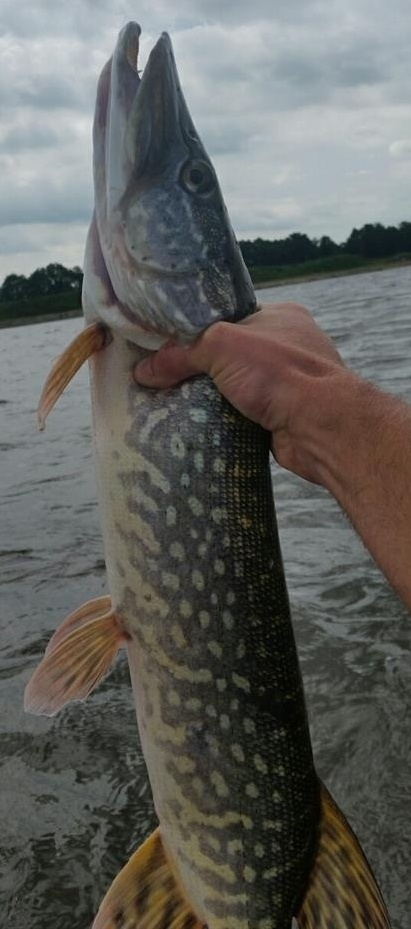Esox lucius: (20, 20, 391, 929)
